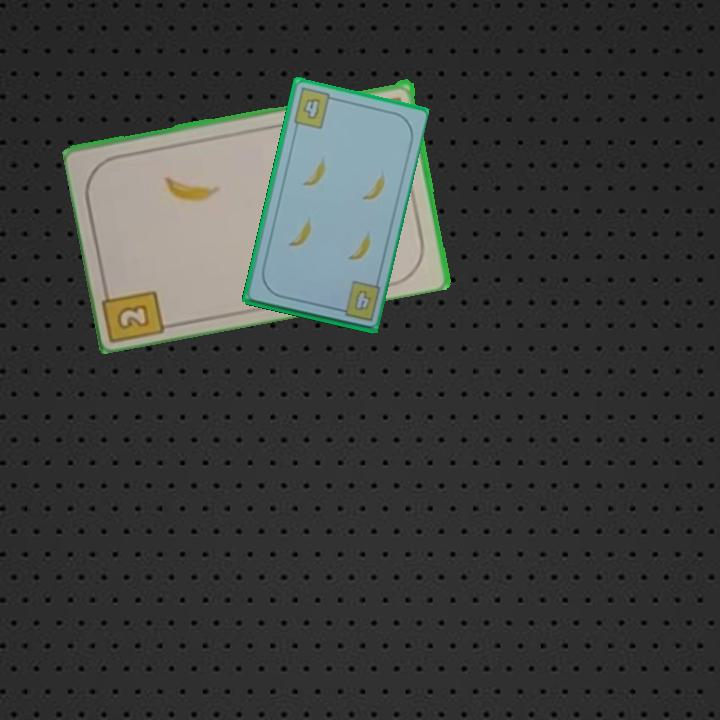2b: (99, 277, 170, 342)
4b: (290, 84, 339, 132), (332, 278, 383, 324)
